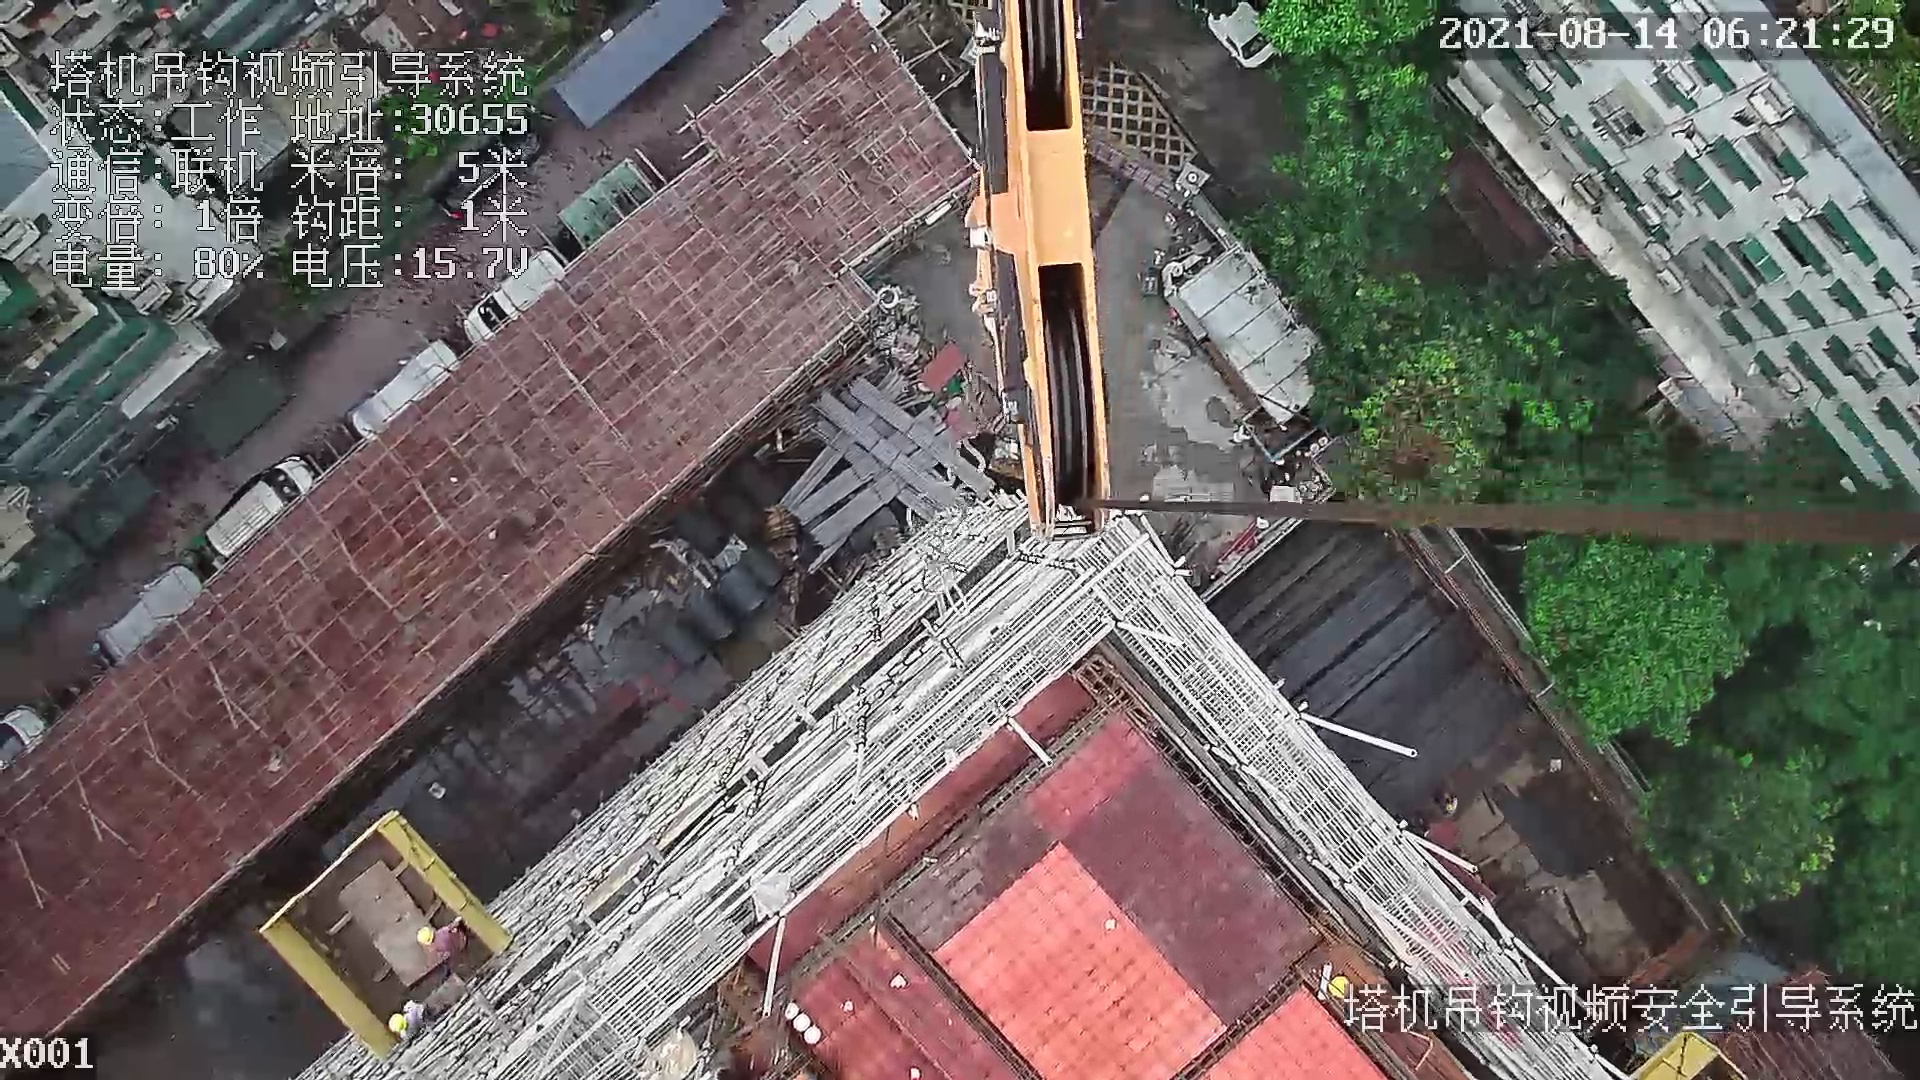helmet: (414, 925, 435, 947), (387, 1012, 404, 1032)
hook: (949, 1, 1112, 539)
person: (410, 912, 473, 958), (381, 1001, 424, 1039)
